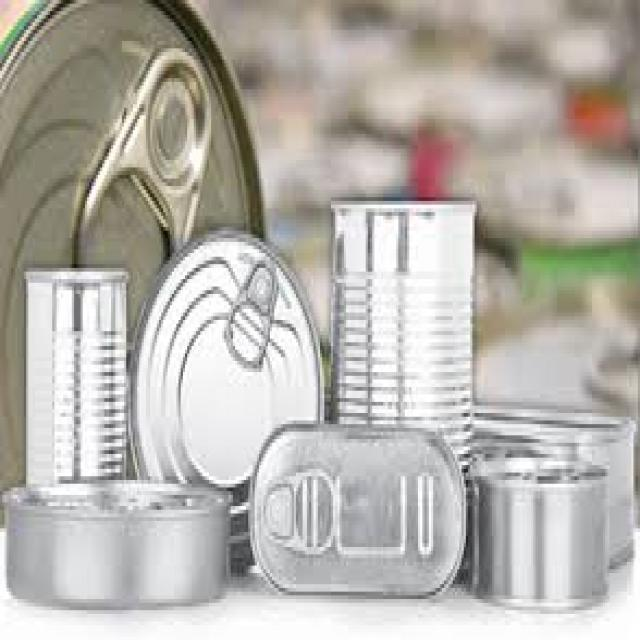recyclable: (128, 224, 325, 574), (332, 194, 476, 581), (250, 423, 464, 603), (6, 478, 230, 612), (24, 266, 130, 492), (469, 451, 609, 614)
